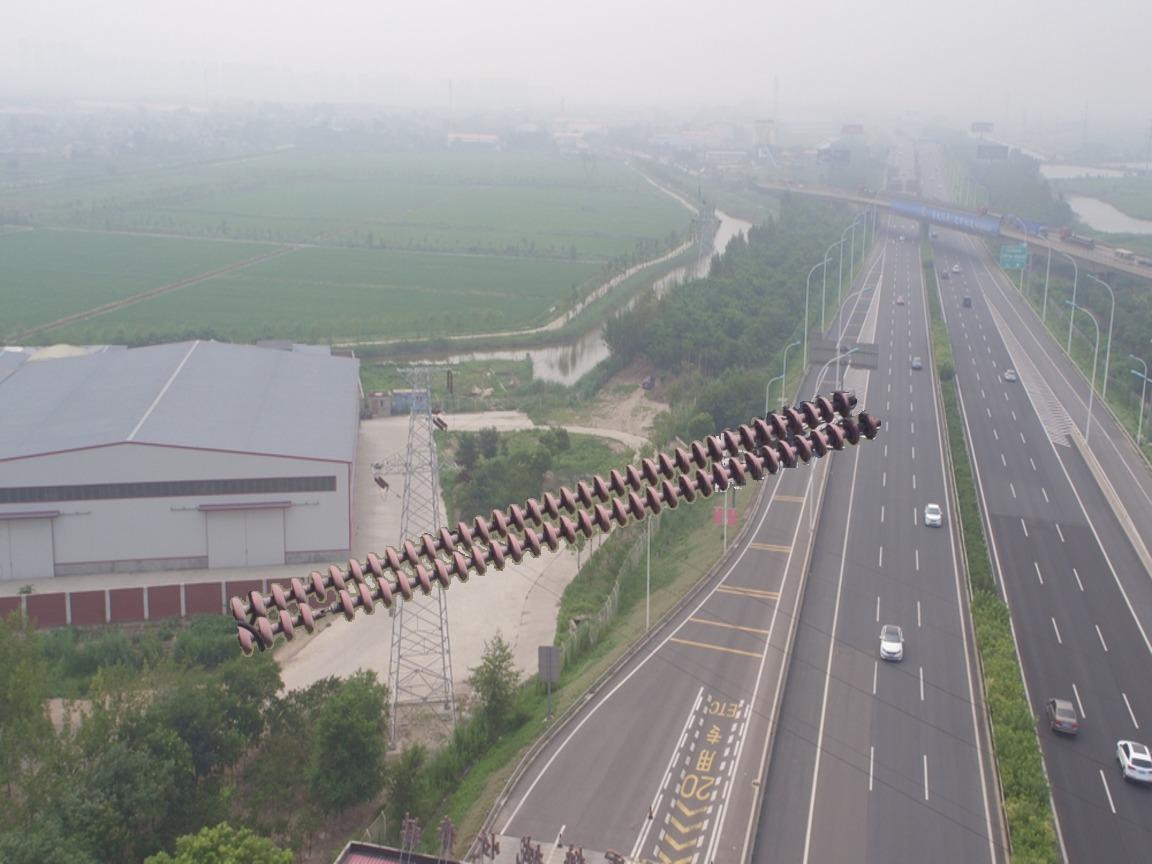defect: (294, 587, 358, 636)
